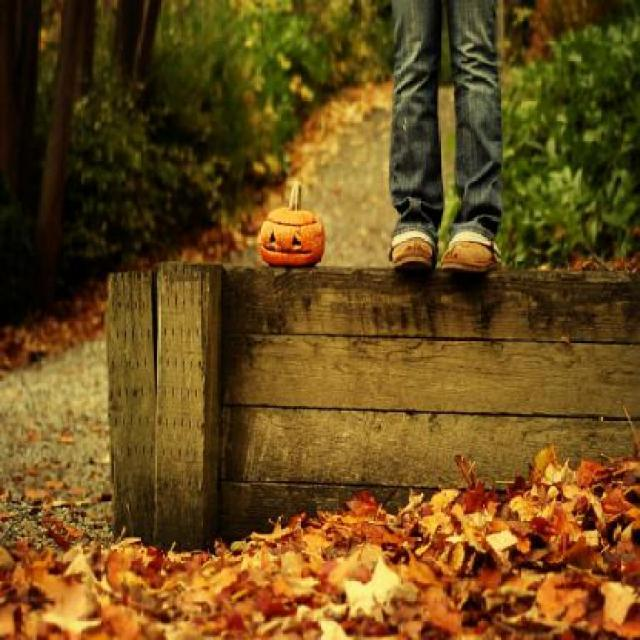Pumpkin: (258, 180, 324, 268)
